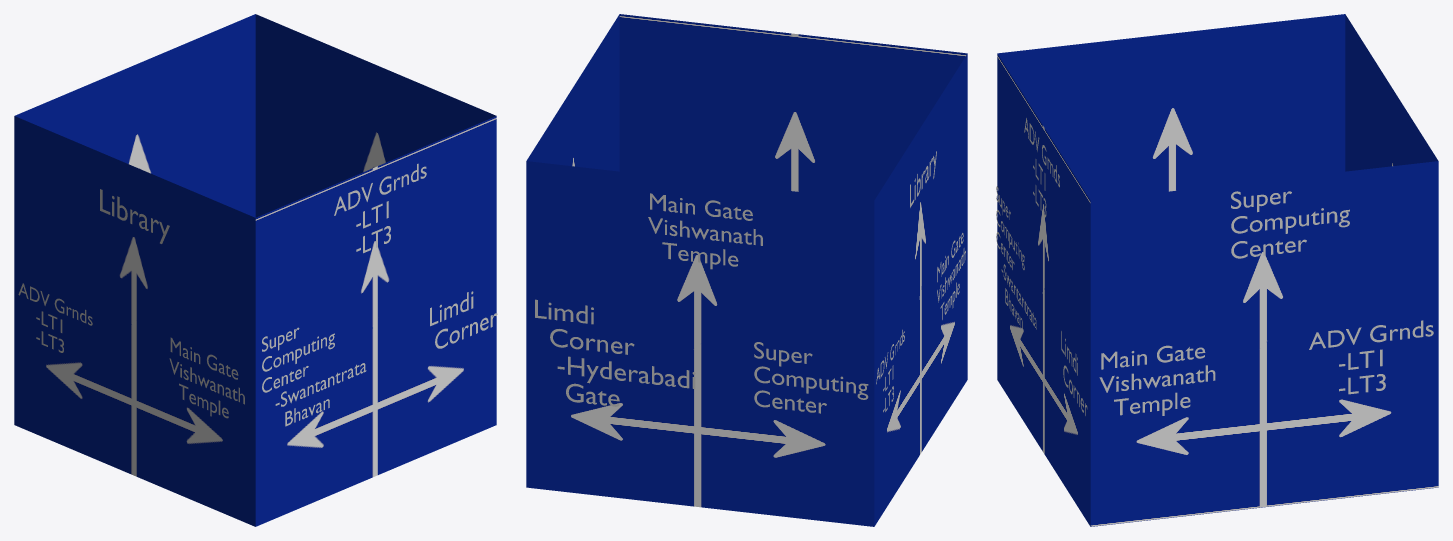
Rendered from lib.gltf.
The picture shows the model from 3 angles, left to right: view 1: azimuth 30°, elevation 25°; view 2: azimuth 150°, elevation 25°; view 3: azimuth 270°, elevation 25°; orthographic projection. The views are drawn at different scales.
Parts seen in each view (by area): view 1: Cube, Text.007, Text.011, Text, Text.006, Text.010, Text.003; view 2: Cube, Text.009, Text.001, Text.008, Text.011; view 3: Cube, Text.005, Text.002, Text.004, Text.007, Text.
Boxes of the visible parts, box(x1,y1,x2,y2) form: Cube: box(14, 14, 496, 526); Text.007: box(262, 327, 366, 426); Text.011: box(169, 337, 244, 418); Text: box(334, 163, 426, 253); Text.006: box(430, 291, 497, 348); Text.010: box(18, 283, 92, 352); Text.003: box(100, 189, 169, 243); Cube: box(526, 14, 967, 526); Text.009: box(535, 299, 695, 406); Text.001: box(648, 193, 762, 269); Text.008: box(754, 342, 868, 413); Text.011: box(937, 233, 965, 319); Cube: box(997, 14, 1438, 526); Text.005: box(1099, 345, 1215, 415); Text.002: box(1231, 191, 1349, 258); Text.004: box(1309, 320, 1433, 394); Text.007: box(996, 186, 1036, 329); Text: box(1024, 118, 1059, 217).
Size of the model in its own units: 2.45 by 2 by 2.45.
1 material, 1 textured.
